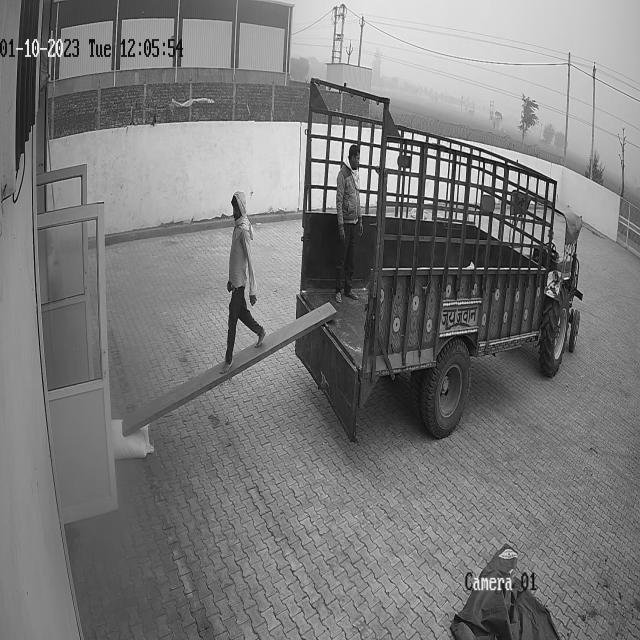sack: (112, 418, 153, 458)
